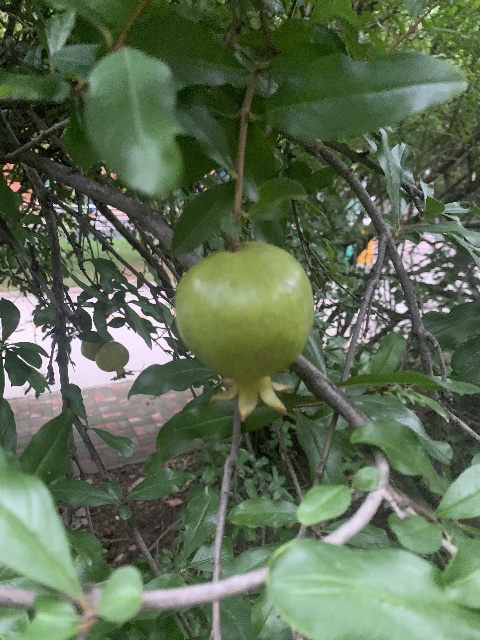mid-growth: (172, 241, 314, 422), (94, 341, 134, 381)
